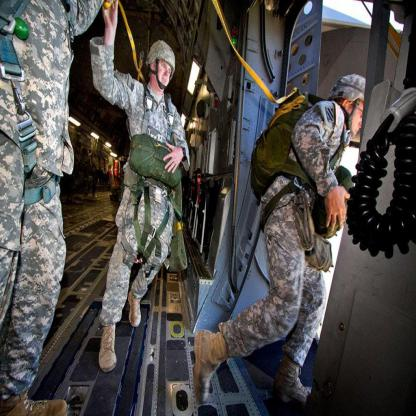face: (348, 96, 369, 136), (155, 56, 172, 87)
